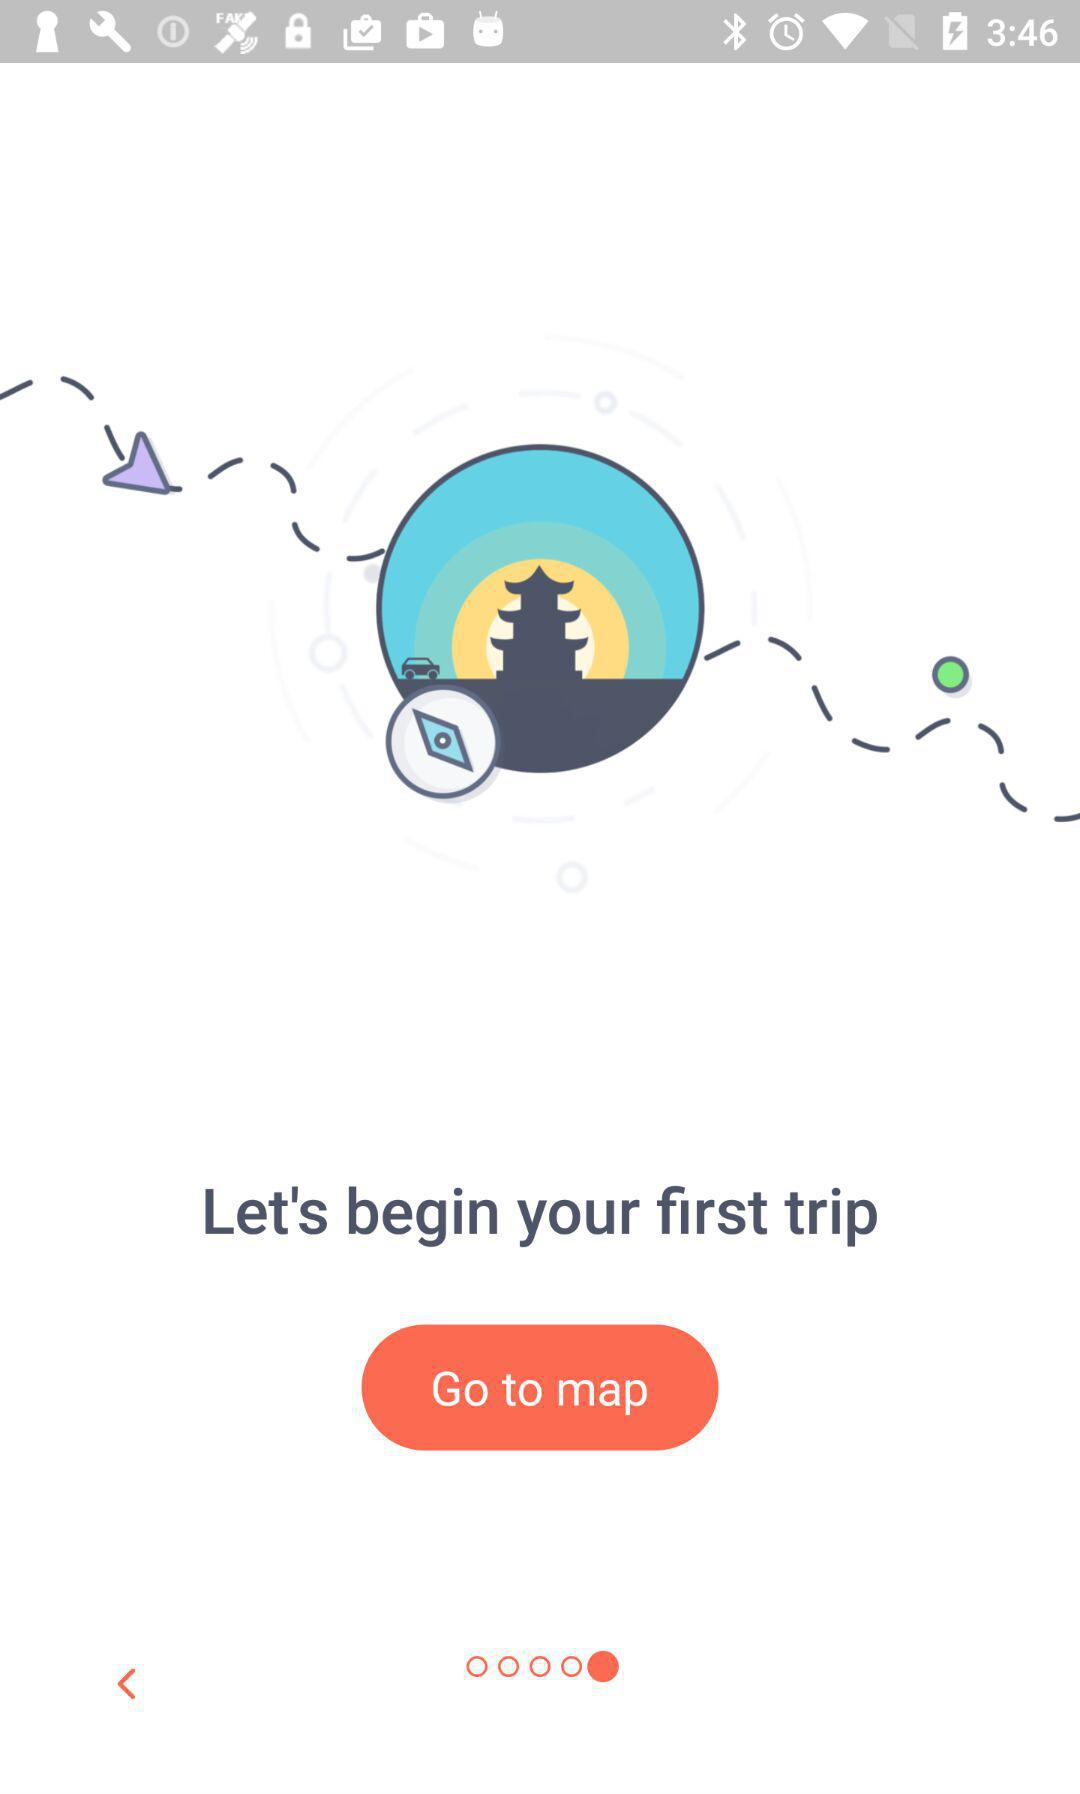Icon: (118, 1667, 140, 1700)
Image: (1, 336, 1080, 892)
PageIndicator: (465, 1649, 621, 1684)
Text: (204, 1181, 880, 1251)
TextButton: (361, 1324, 721, 1452)
UpperTaskBar: (1, 1, 1080, 64)
